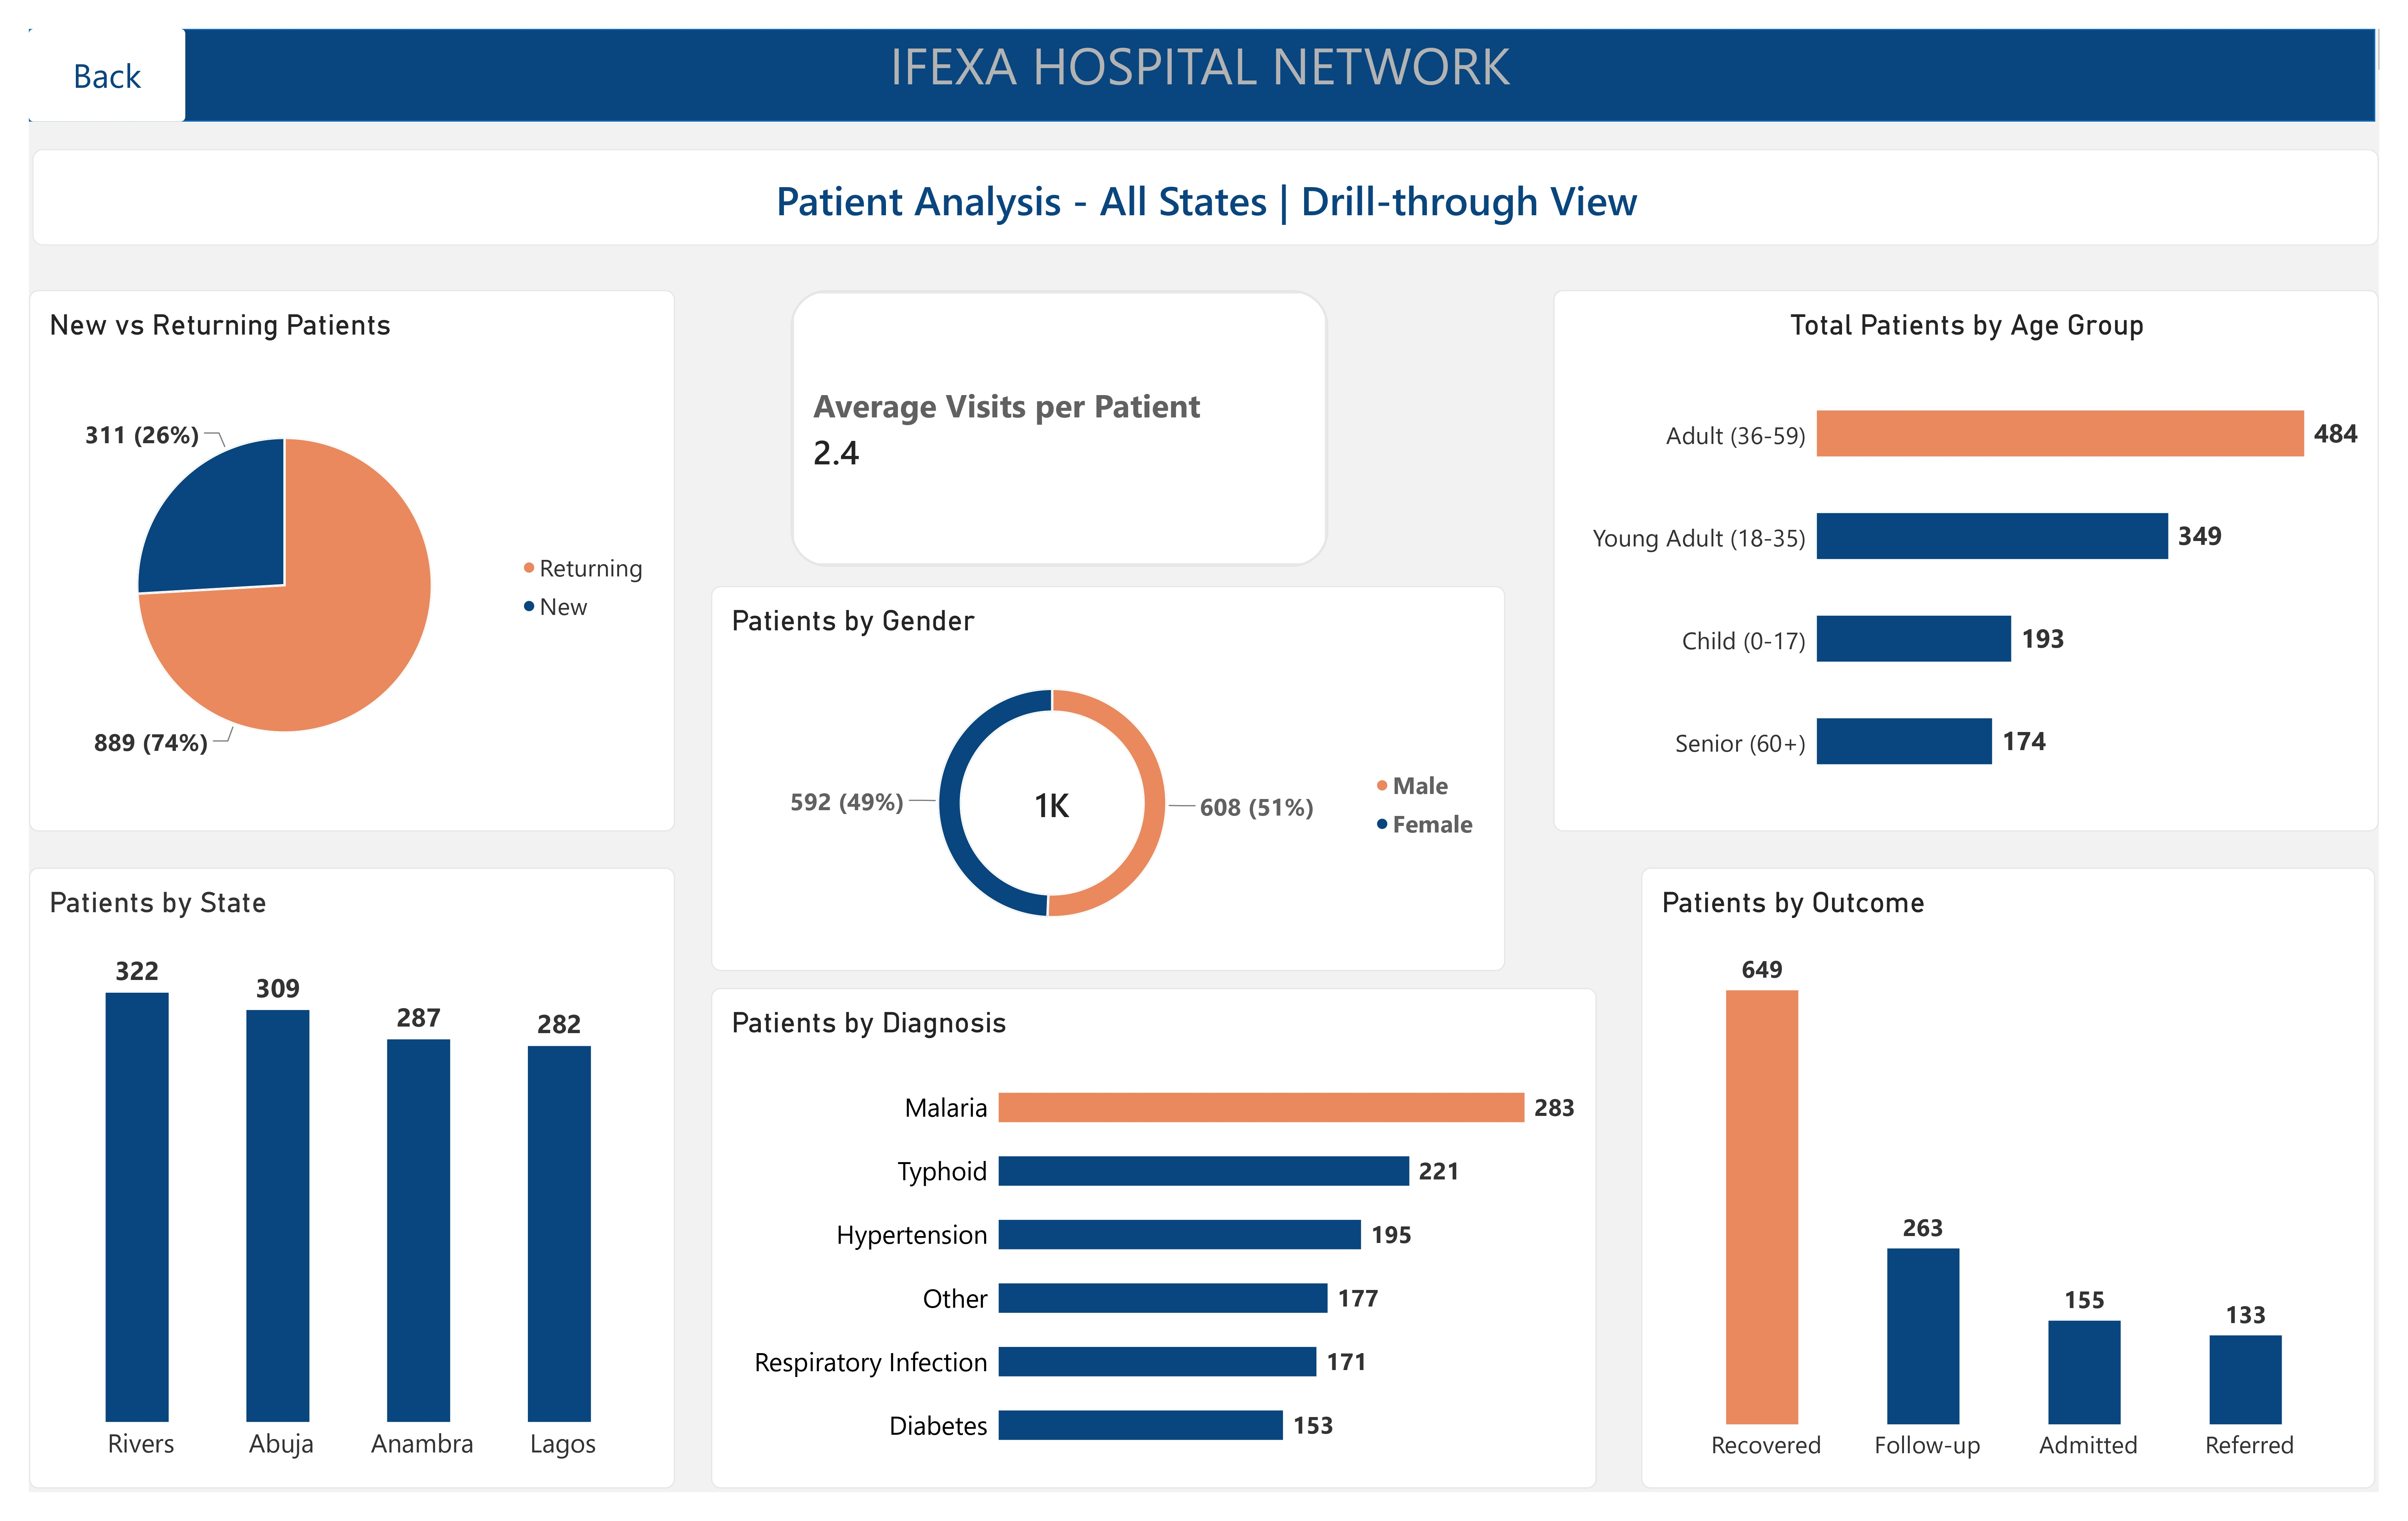

This screenshot's page, from the dashboard's own definition file:
{"tool":"powerbi","page":{"name":"Patient Analysis","canvas":[1953,1216],"ordinal":1},"visuals":[{"type":"shape","box":[0,0,1950,76.7],"z":0},{"type":"textbox","box":[76.7,0,1793.3,76.7],"z":1},{"type":"clusteredBarChart","title":"Total Patients by Age Group","fields":{"Category":["Patient_Visits.Age_Group"],"Y":["Date_Table.Total Patients"]},"box":[1266.7,216.7,686.7,450],"z":2},{"type":"donutChart","title":"Patients by Gender","fields":{"Category":["Patient_Visits.Gender"],"Y":["Date_Table.Total Patients"]},"box":[566.7,463.3,660,320],"z":3},{"type":"clusteredBarChart","title":"Patients by Diagnosis","fields":{"Category":["Patient_Visits.Diagnosis"],"Y":["Date_Table.Total Patients"]},"box":[566.7,796.7,736.7,416.7],"z":4},{"type":"clusteredColumnChart","title":"Patients by State","fields":{"Category":["State_Targets.State"],"Y":["Date_Table.Total Patients"]},"box":[0,696.7,536.7,516.7],"z":5},{"type":"pieChart","title":"New vs Returning Patients","fields":{"Category":["Patient_Visits.Patient_Type"],"Y":["Date_Table.Total Patients"]},"box":[0,216.7,536.7,450],"z":6},{"type":"columnChart","title":"Patients by Outcome","fields":{"Category":["Patient_Visits.Outcome"],"Y":["Date_Table.Total Patients"]},"box":[1340,696.7,610,516.7],"z":7},{"type":"cardVisual","title":"Average Visits per Patient","fields":{"Data":["Date_Table.Average Visits per Patient"]},"box":[633.3,216.7,446.7,230],"z":8},{"type":"cardVisual","fields":{"Data":["Date_Table.Title Patient Analysis"]},"box":[3.3,100,1950,80],"z":11},{"type":"actionButton","box":[0,0,130,77],"z":12}]}

Visuals, with their boxes on the page's 1953x1216 design canvas (x1, y1, x2, y2). These are canvas units, not pixel positions in the 2408x1521 screenshot, which may show the page scaled, cropped or inside an application window:
shape: box(0, 0, 1950, 77)
textbox: box(77, 0, 1870, 77)
"Total Patients by Age Group" clusteredBarChart: box(1267, 217, 1953, 667)
"Patients by Gender" donutChart: box(567, 463, 1227, 783)
"Patients by Diagnosis" clusteredBarChart: box(567, 797, 1303, 1213)
"Patients by State" clusteredColumnChart: box(0, 697, 537, 1213)
"New vs Returning Patients" pieChart: box(0, 217, 537, 667)
"Patients by Outcome" columnChart: box(1340, 697, 1950, 1213)
"Average Visits per Patient" cardVisual: box(633, 217, 1080, 447)
cardVisual - Date_Table.Title Patient Analysis: box(3, 100, 1953, 180)
actionButton: box(0, 0, 130, 77)
